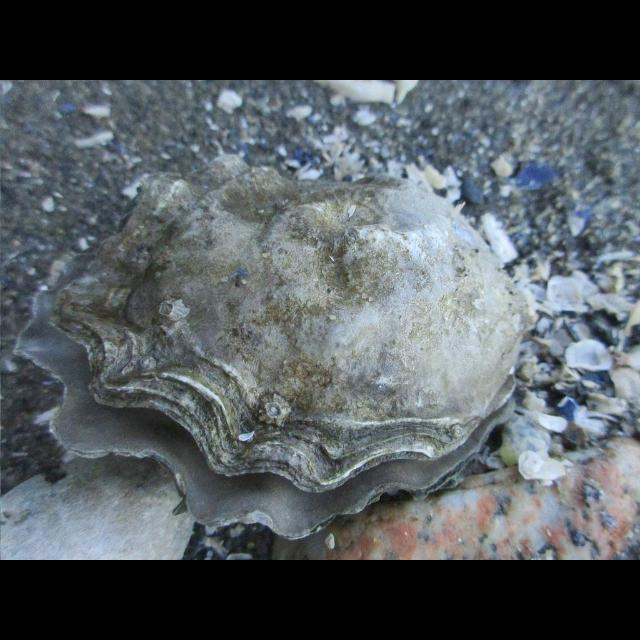Oyster-Open: (16, 152, 534, 540)
